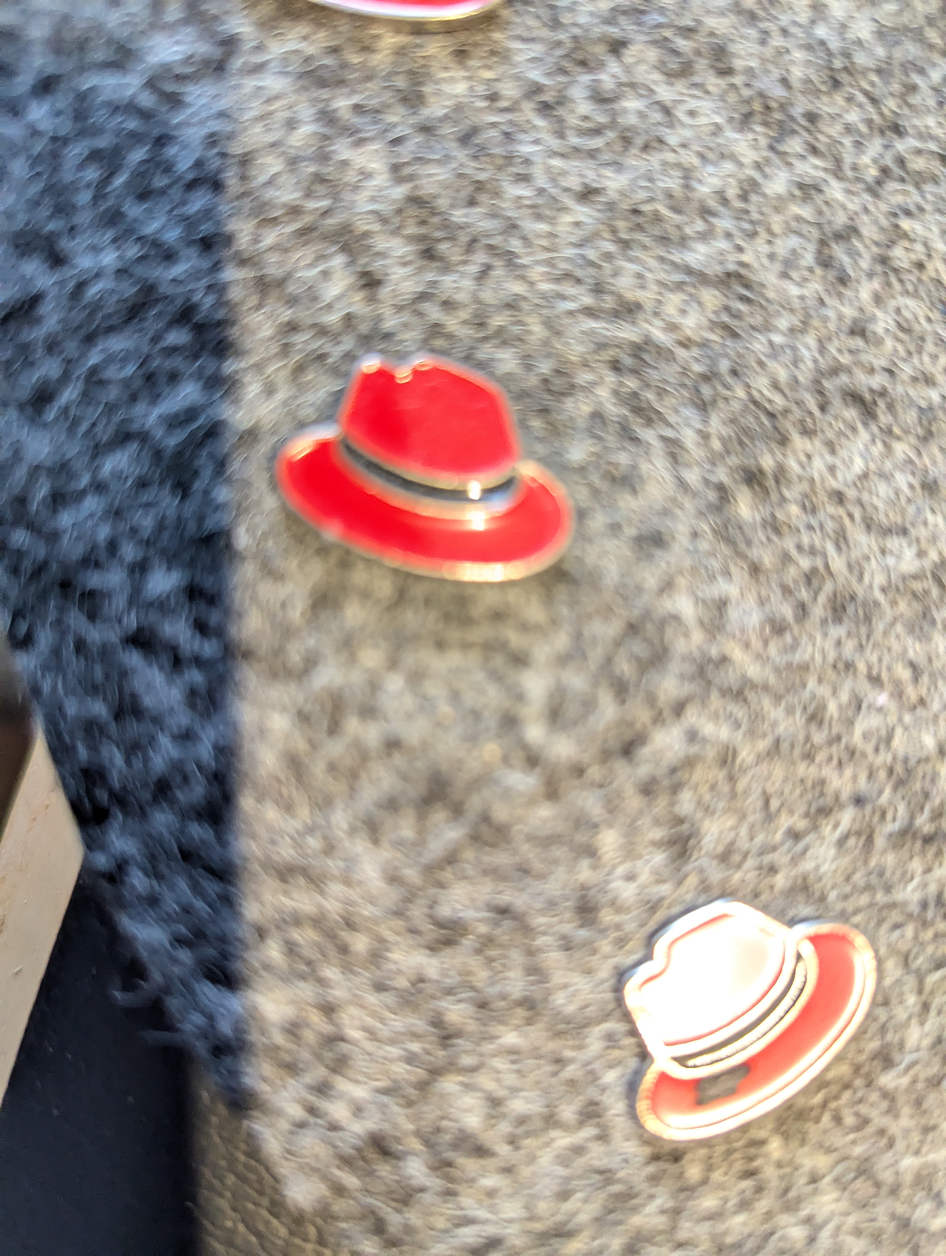Red-Hat: (243, 321, 606, 634), (591, 871, 915, 1171)
Scratch: (684, 1059, 765, 1115)
